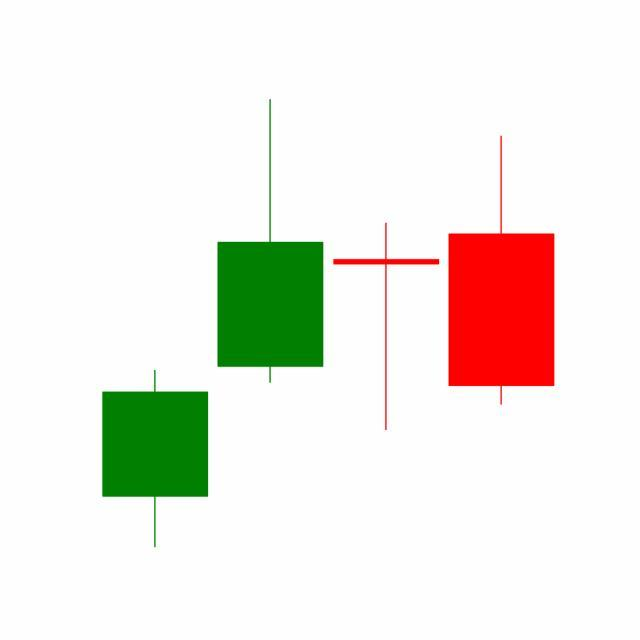Three Inside Up-Down: (211, 99, 555, 435)
